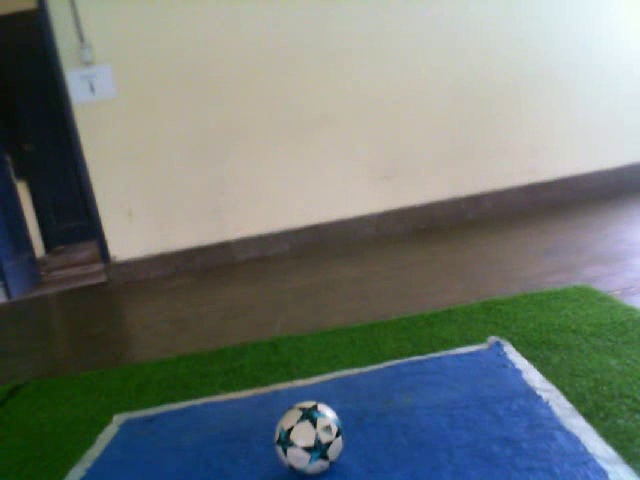ball: (271, 398, 348, 480)
